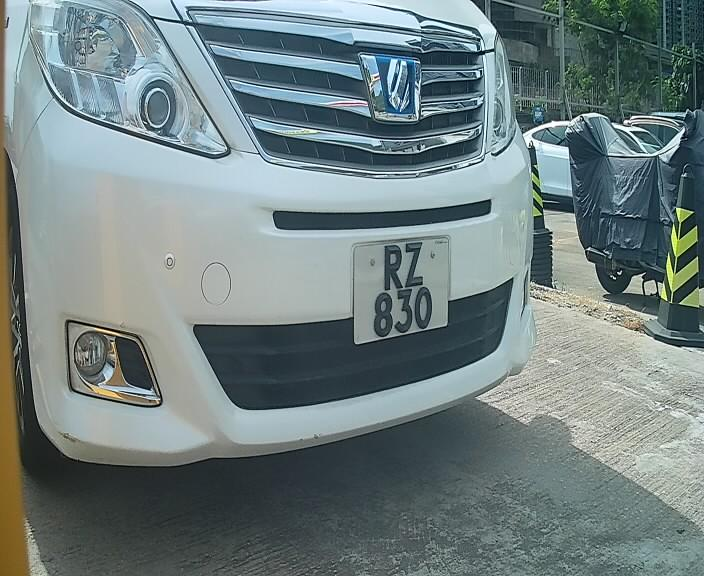Car: (13, 1, 557, 517)
License Plate: (346, 224, 463, 355)
